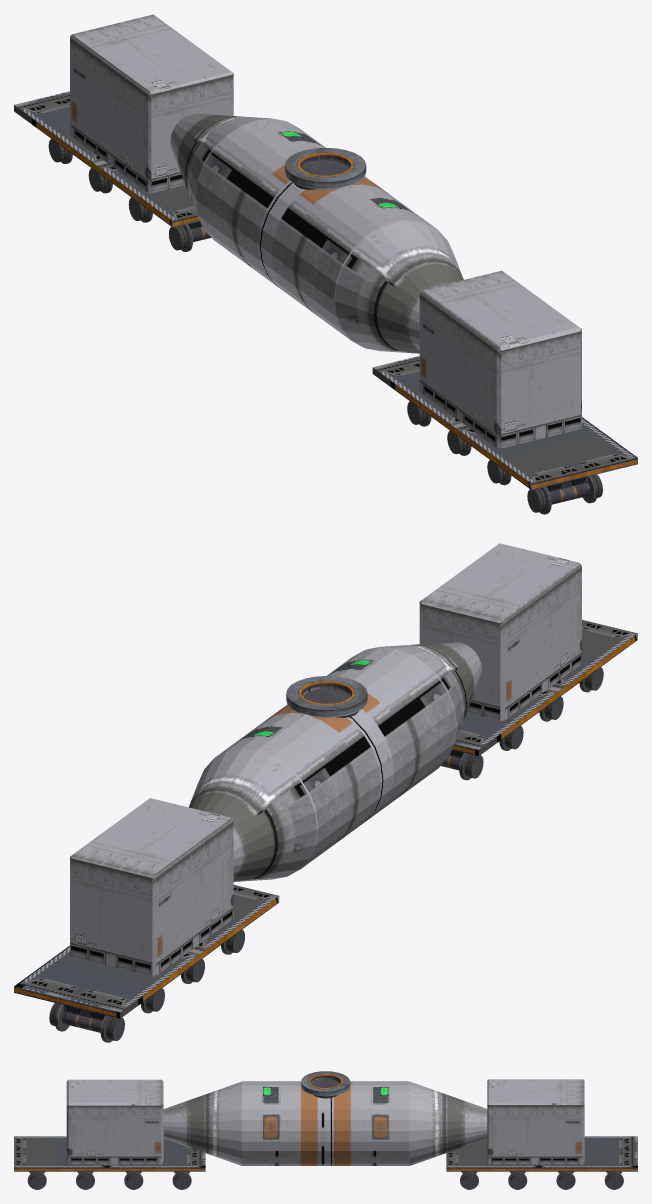
Rendered from 送矿车.obj.
3 views of the same model, one above another, from view 1: azimuth 30°, elevation 25°; view 2: azimuth 150°, elevation 25°; view 3: azimuth 270°, elevation 25° (orthographic). The views are drawn at different scales.
Parts seen in each view (by area): view 1: Cylinder062, Box008, Box410, Box009, Box894, Cylinder063, Cylinder069, Cylinder125; view 2: Cylinder062, Box410, Box008, Box894, Box009, Cylinder063, Cylinder128, Cylinder124; view 3: Cylinder062, Box410, Box008, Box894, Box009, Cylinder063, Cylinder123, Cylinder126, Cylinder069, Cylinder122, Cylinder125, Cylinder128 (+2 smaller).
Boxes of the visible parts, x1,y1,x2,y2 form: Cylinder062: (170,113,463,353); Box008: (419,270,581,448); Box410: (70,14,233,193); Box009: (372,356,637,490); Box894: (14,91,199,227); Cylinder063: (285,147,366,189); Cylinder069: (527,474,602,514); Cylinder125: (169,224,211,251); Cylinder062: (189,642,481,881); Box410: (70,798,233,976); Box008: (419,543,581,720); Box894: (14,885,279,1018); Box009: (452,620,637,756); Cylinder063: (286,676,367,717); Cylinder128: (49,1003,124,1042); Cylinder124: (441,753,483,780); Cylinder062: (163,1081,487,1165); Box410: (487,1079,584,1164); Box008: (66,1079,163,1164); Box894: (446,1136,637,1171); Box009: (14,1136,205,1171); Cylinder063: (301,1071,350,1098); Cylinder123: (124,1171,143,1189); Cylinder126: (508,1171,527,1189); Cylinder069: (27,1171,46,1189); Cylinder122: (76,1171,94,1189); Cylinder125: (460,1171,478,1189); Cylinder128: (604,1171,623,1189).
Size of the model in its own units: 3.53 by 4.63 by 25.98.
